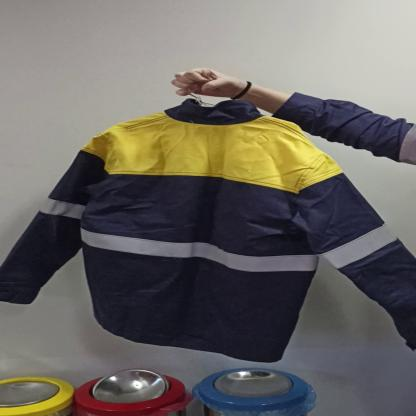C_eletrica: (3, 99, 416, 366)
